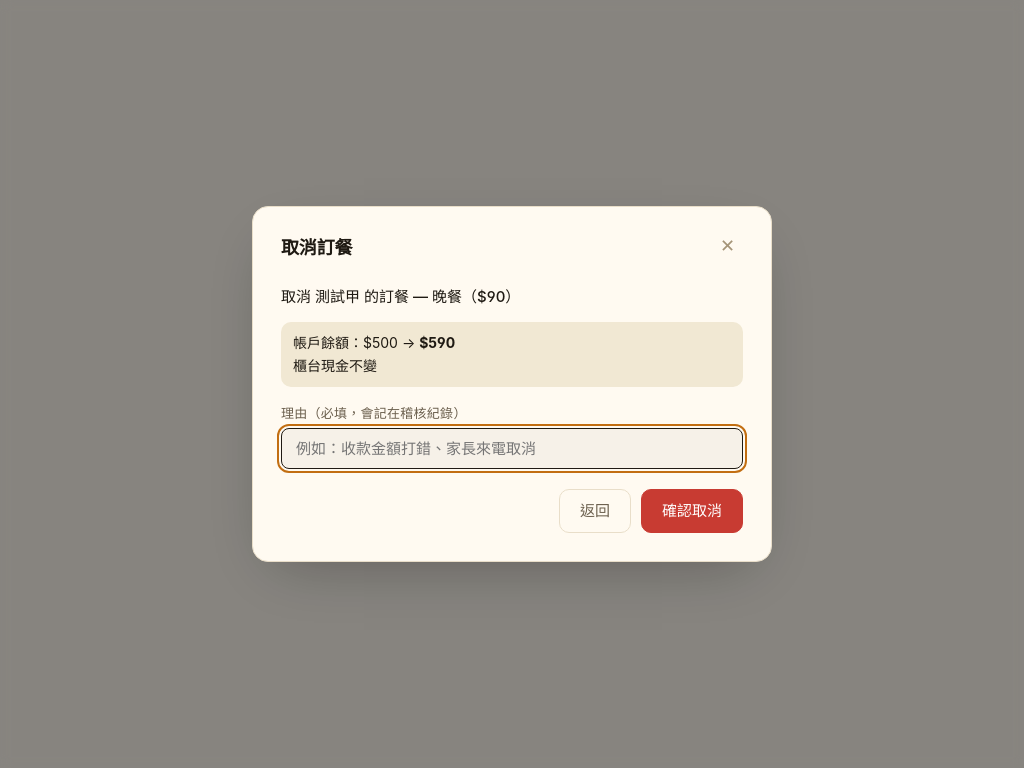
CancelOrderDialog › 送出失敗（缺理由、已關帳）時留在對話框並顯示原因
Click the button "確認取消" at (692, 511), box [641,489,743,533]
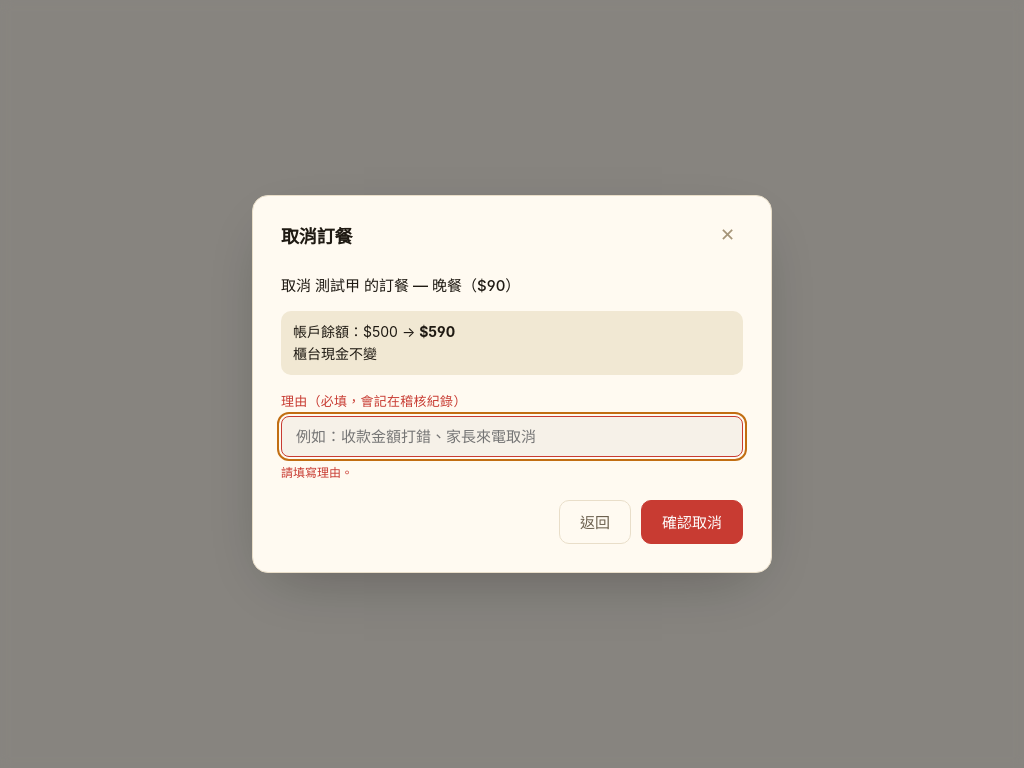
Check: the message reads "請填寫理由。", box [281,465,353,480]
